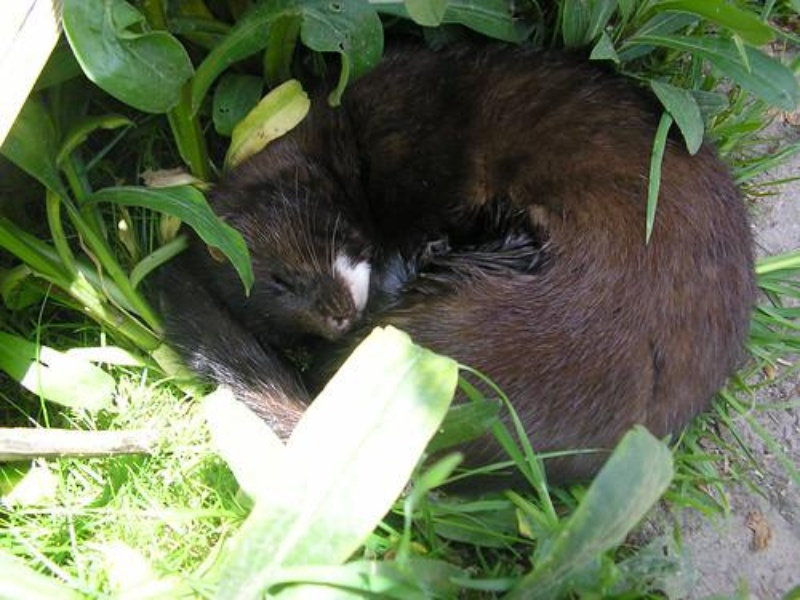minkish: (202, 35, 761, 482)
